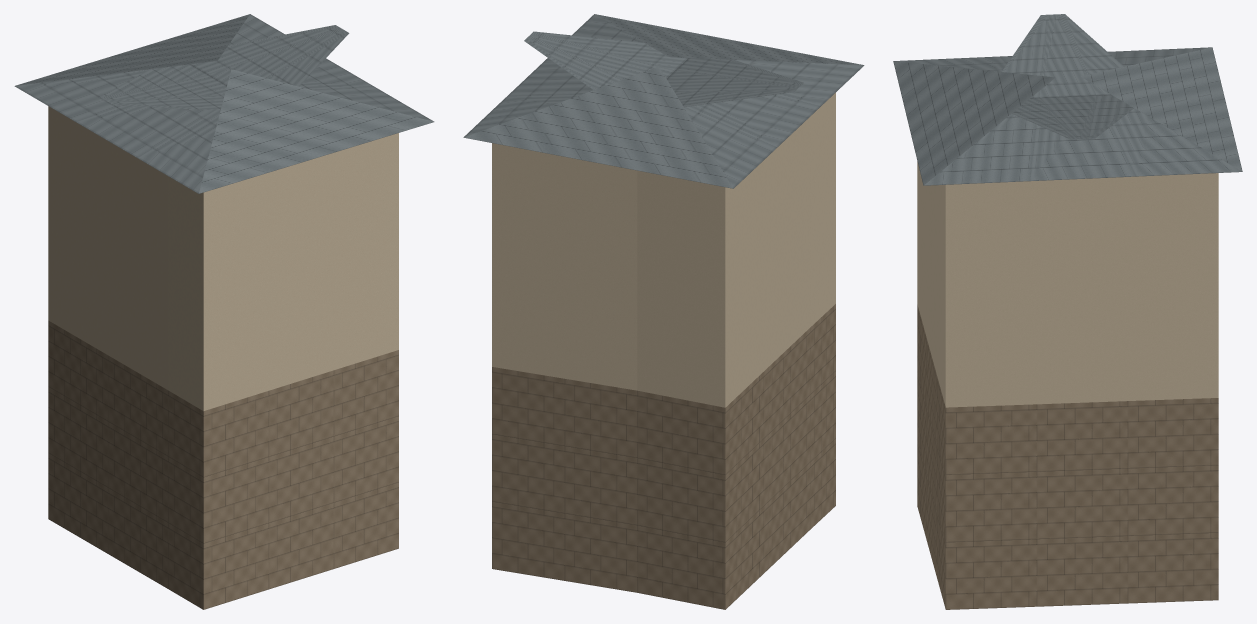
Rendered from bld_c34_-55_427.gltf.
The picture shows the model from 3 angles, left to right: view 1: azimuth 30°, elevation 25°; view 2: azimuth 150°, elevation 25°; view 3: azimuth 270°, elevation 25°; orthographic projection.
Parts seen in each view (by area): view 1: bld_c34_-55_427; view 2: bld_c34_-55_427; view 3: bld_c34_-55_427.
Part boxes in pixels (x1,y1,x2,y2): bld_c34_-55_427: [14, 14, 434, 609]; bld_c34_-55_427: [463, 14, 864, 609]; bld_c34_-55_427: [893, 14, 1242, 609].
Size of the model in its own units: 7.49 by 12 by 7.98.
Materials: 3 (3 with a texture image).
